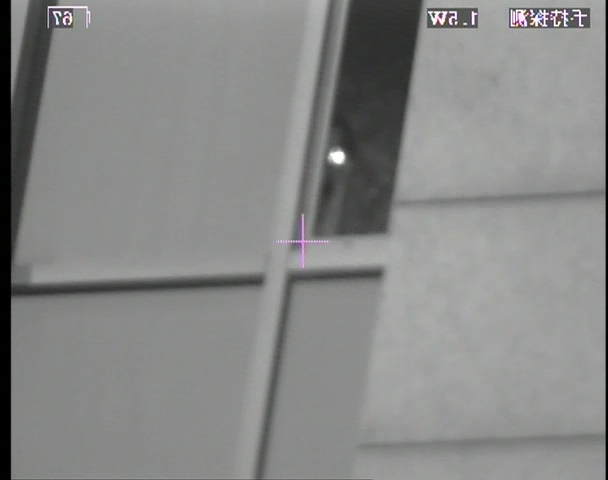my: (328, 147, 347, 165)
